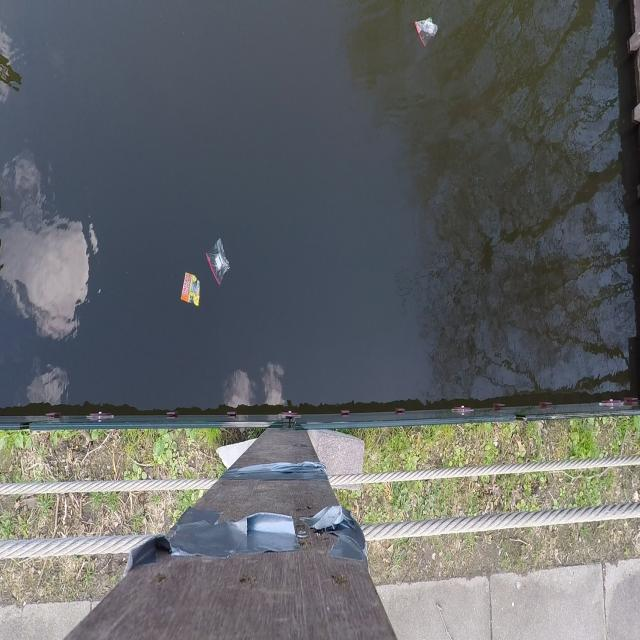Autre plastique: (169, 253, 210, 327)
Sac plastique: (199, 230, 239, 296), (410, 12, 440, 52)
